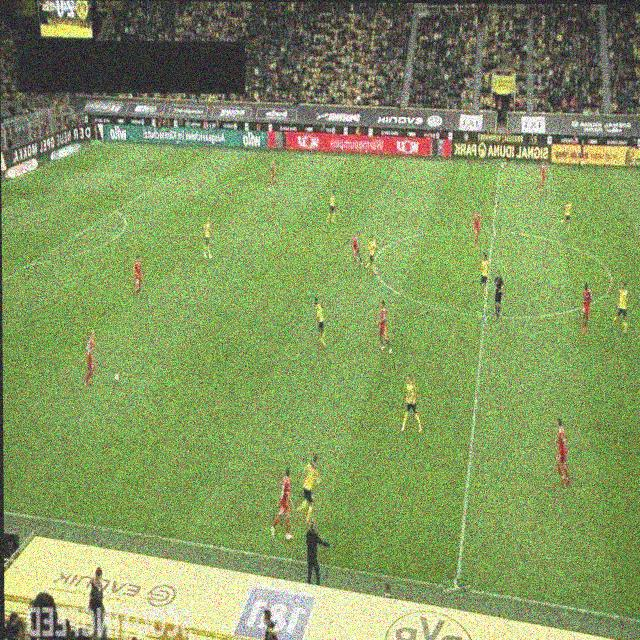bigarea_top_inner: (161, 171, 176, 185)
bigarea_top_outter: (29, 162, 46, 179)
bottom_arc_area_intersection: (23, 256, 39, 272)
corner: (91, 140, 103, 152)
halfcircle_bottom: (477, 309, 492, 324)
halfcircle_top: (487, 225, 501, 238)
midline_bottom_intersection: (443, 578, 470, 598)
midline_top_intersection: (494, 159, 506, 171)
smallarea_top_inner: (17, 192, 32, 208)
top_arc_area_intersection: (109, 204, 124, 218)
